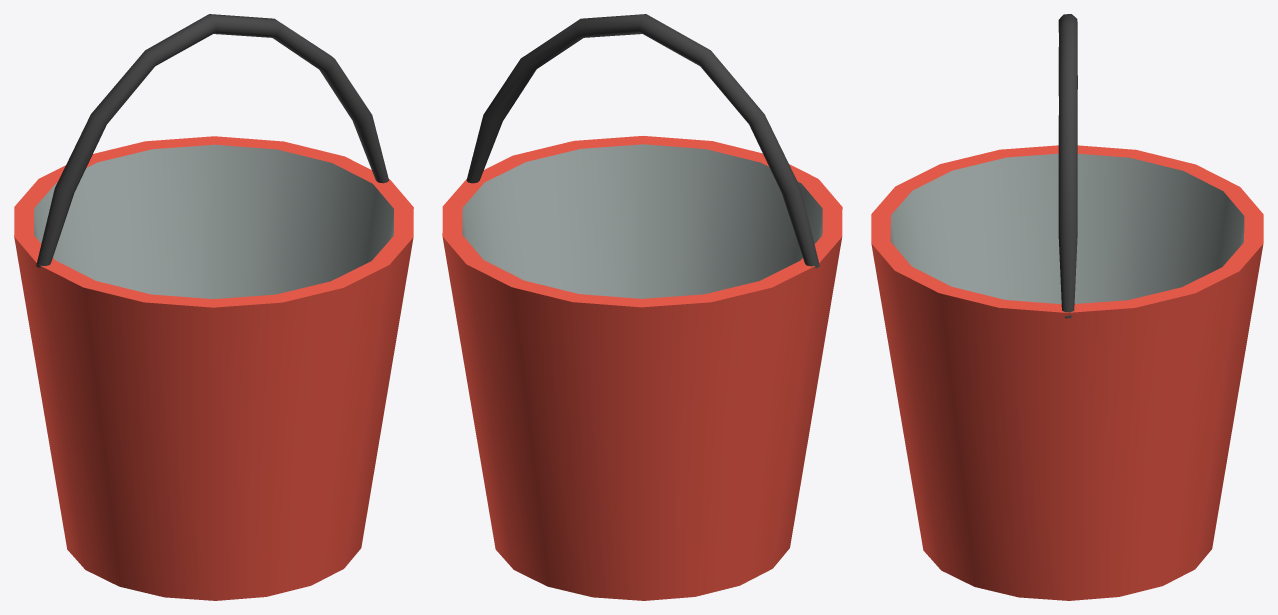
Rendered from Bucket.fbx.
3 renders of one model, left to right at view 1: azimuth 30°, elevation 25°; view 2: azimuth 150°, elevation 25°; view 3: azimuth 270°, elevation 25°, orthographic.
Visible parts, largest first — view 1: Bucket; view 2: Bucket; view 3: Bucket.
Part boxes in pixels (x1=…): Bucket: x1=14, y1=14, x2=413, y2=600; Bucket: x1=442, y1=14, x2=842, y2=600; Bucket: x1=871, y1=14, x2=1263, y2=600.
Bounding box in the file's own units: 0.5108 × 0.7254 × 0.5025.
